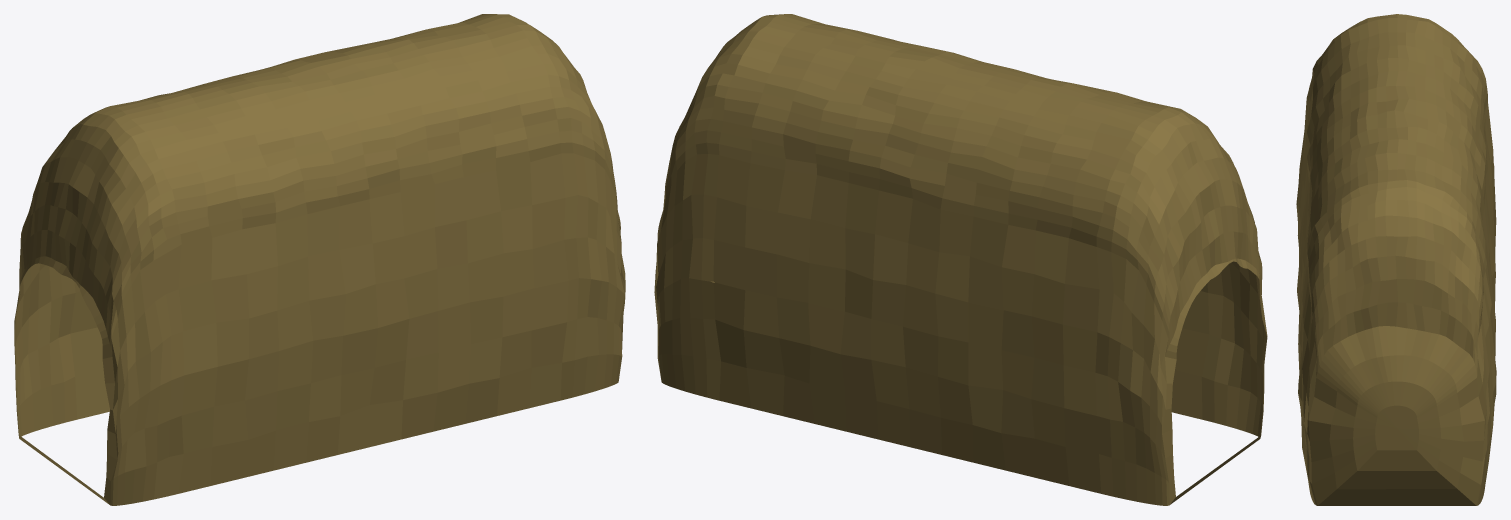
File: pole_seno.glb
The picture shows the model from 3 angles, left to right: view 1: azimuth 30°, elevation 25°; view 2: azimuth 150°, elevation 25°; view 3: azimuth 270°, elevation 25°; orthographic projection. The views are drawn at different scales.
Parts seen in each view (by area): view 1: seno_seno.001; view 2: seno_seno.001; view 3: seno_seno.001.
Boxes of the visible parts, x1,y1,x2,y2 form: seno_seno.001: [14, 14, 625, 505]; seno_seno.001: [654, 14, 1267, 505]; seno_seno.001: [1296, 14, 1496, 505].
Bounding box in the file's own units: 6.82 × 4.17 × 2.51.
1 material, 1 textured.
